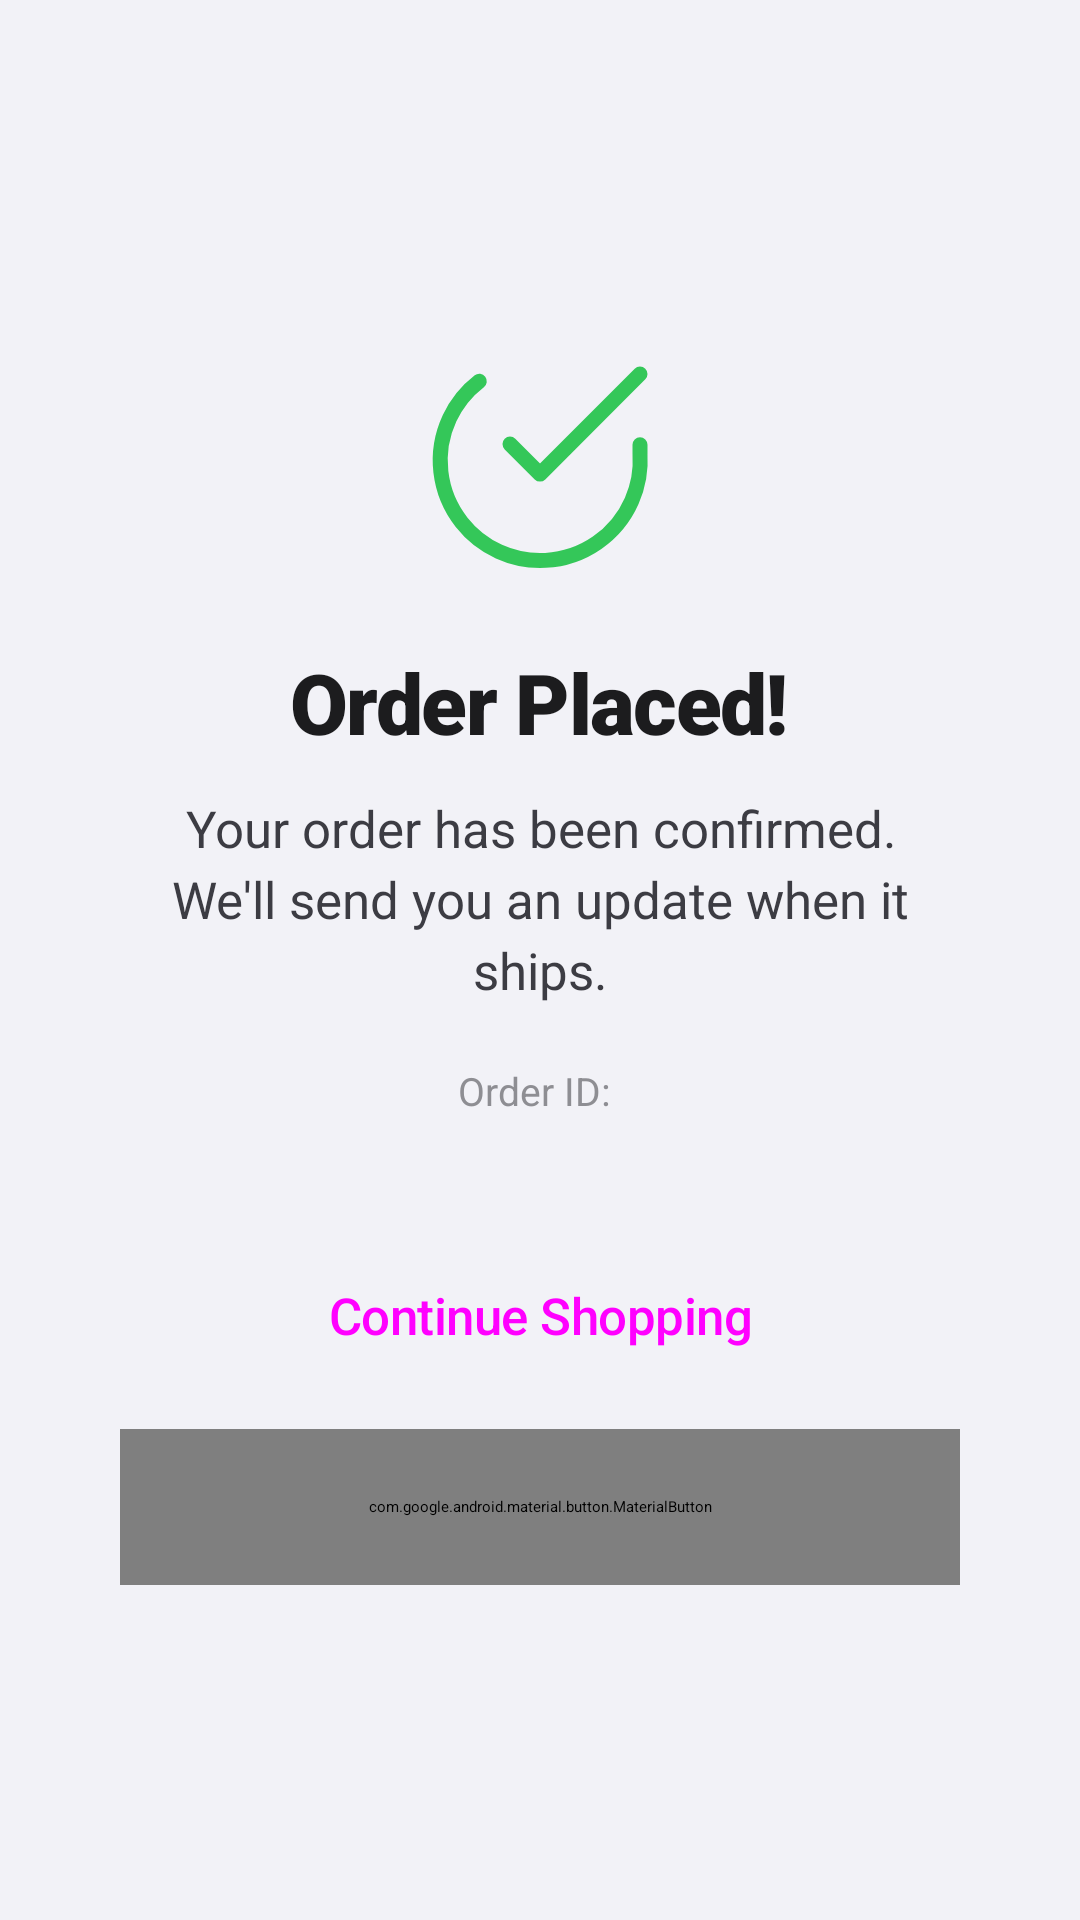

Where icons sit on this 1080px×1920px app screen, as (x1,y1,x2,y2):
Order confirmed: (432,366,648,568)
